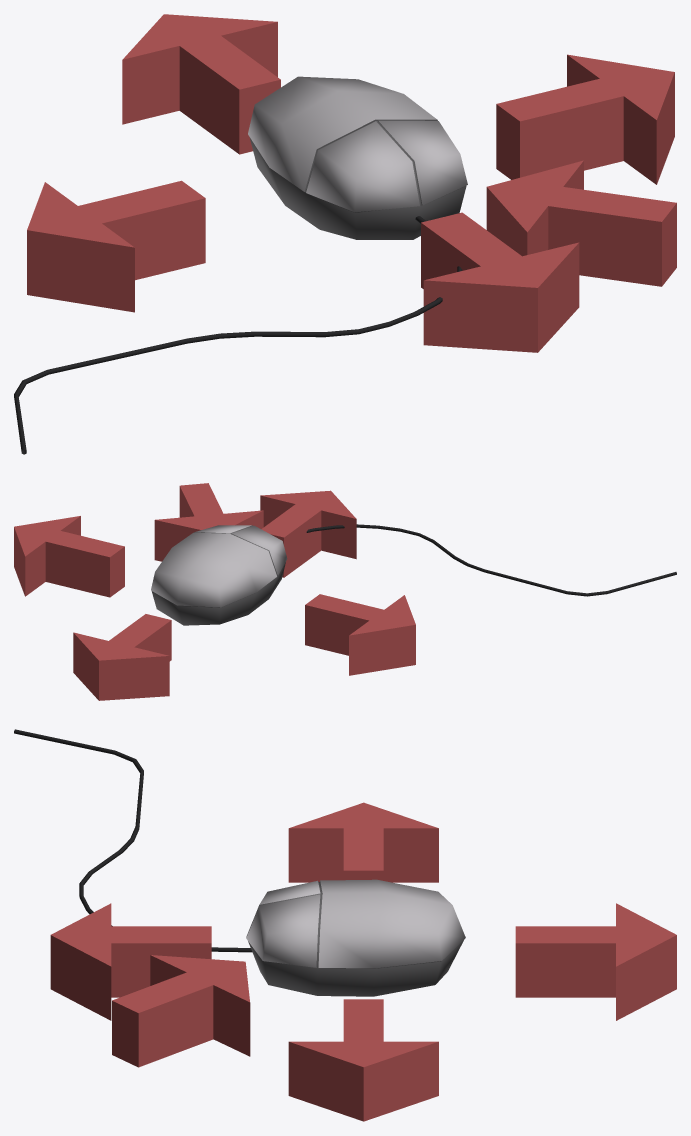
File: tutorial.glb
The picture shows the model from 3 angles, top to bottom: view 1: azimuth 30°, elevation 25°; view 2: azimuth 150°, elevation 25°; view 3: azimuth 270°, elevation 25°; orthographic projection. The views are drawn at different scales.
Visible parts, largest first — view 1: AimArrows, Mouse, ShootArrow; view 2: AimArrows, Mouse, ShootArrow; view 3: AimArrows, Mouse, ShootArrow.
Part boxes in pixels (left/top/right/bottom): AimArrows: left=27, top=14, right=674, bottom=352; Mouse: left=14, top=76, right=467, bottom=454; ShootArrow: left=486, top=160, right=676, bottom=286; AimArrows: left=14, top=490, right=415, bottom=700; Mouse: left=151, top=524, right=676, bottom=625; ShootArrow: left=154, top=483, right=263, bottom=561; AimArrows: left=50, top=802, right=676, bottom=1121; Mouse: left=14, top=729, right=465, bottom=996; ShootArrow: left=112, top=955, right=250, bottom=1067.
Size of the model in its own units: 11.06 by 1.42 by 8.81.
1 material, 1 textured.
